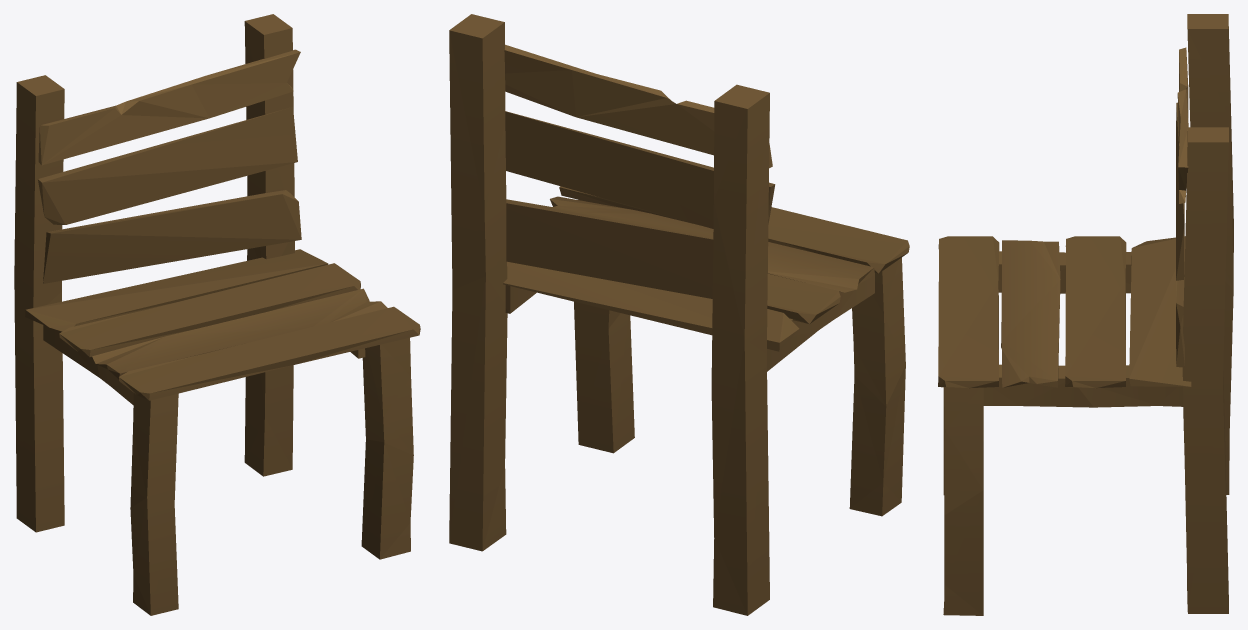
Rendered from Chair.fbx.
3 views of the same model, side by side, from view 1: azimuth 30°, elevation 25°; view 2: azimuth 150°, elevation 25°; view 3: azimuth 270°, elevation 25° (orthographic). The views are drawn at different scales.
Visible parts, largest first — view 1: Chair; view 2: Chair; view 3: Chair.
Boxes of the visible parts, x1,y1,x2,y2 form: Chair: (14, 14, 420, 615); Chair: (449, 14, 909, 615); Chair: (938, 14, 1233, 615).
Size of the model in its own units: 0.5375 by 0.8071 by 0.4586.
